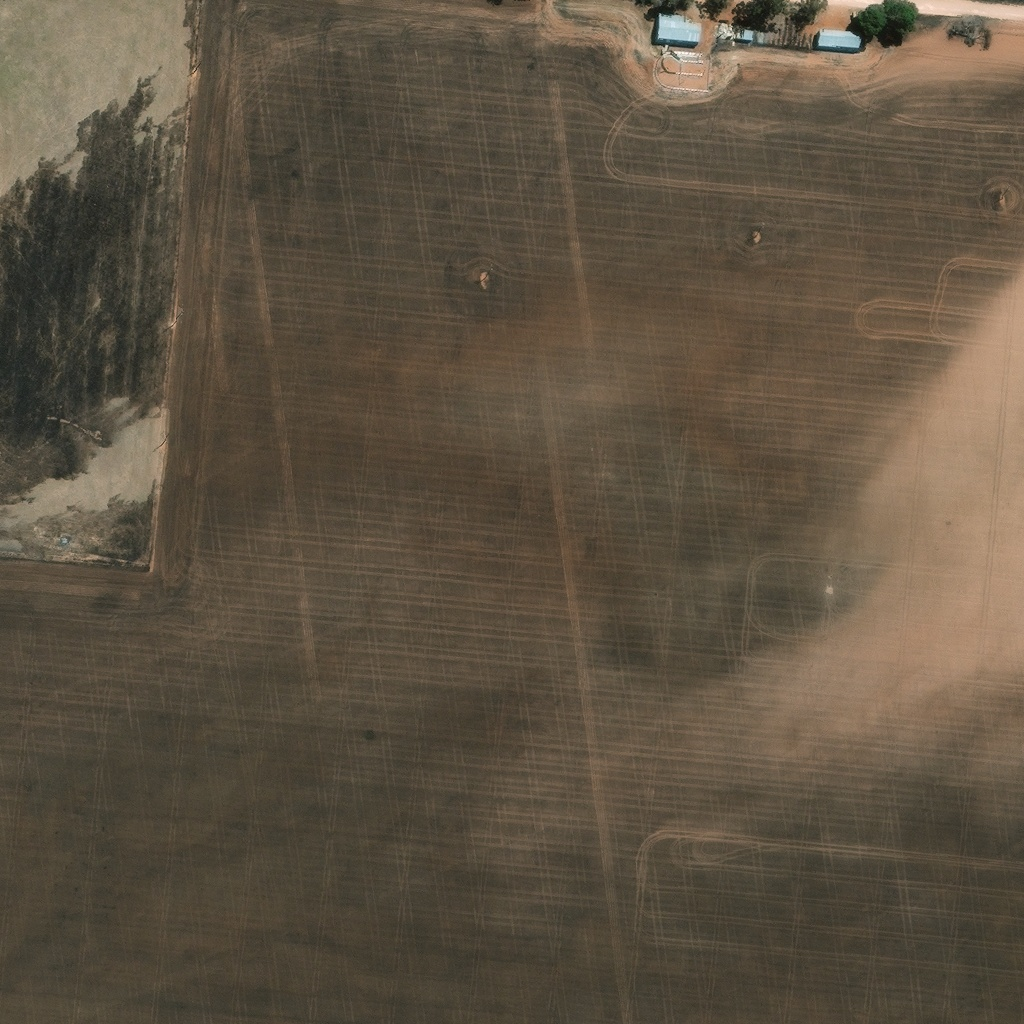0 no-damage: (656, 9, 702, 40), (818, 25, 864, 47), (720, 17, 757, 37)
